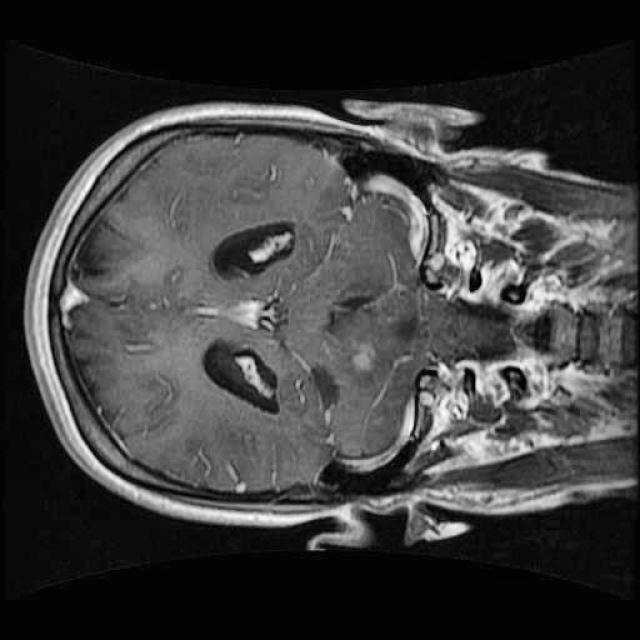Tumor: (334, 323, 394, 398)
